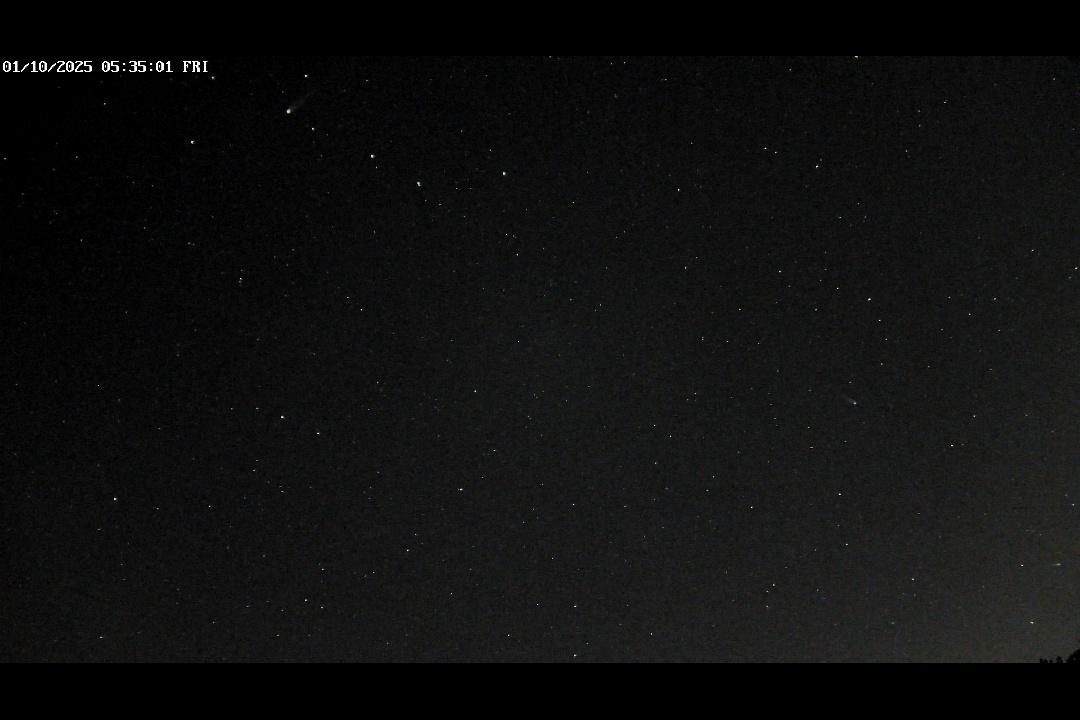Plane: (830, 387, 863, 410), (282, 94, 314, 116), (1047, 561, 1066, 569)
